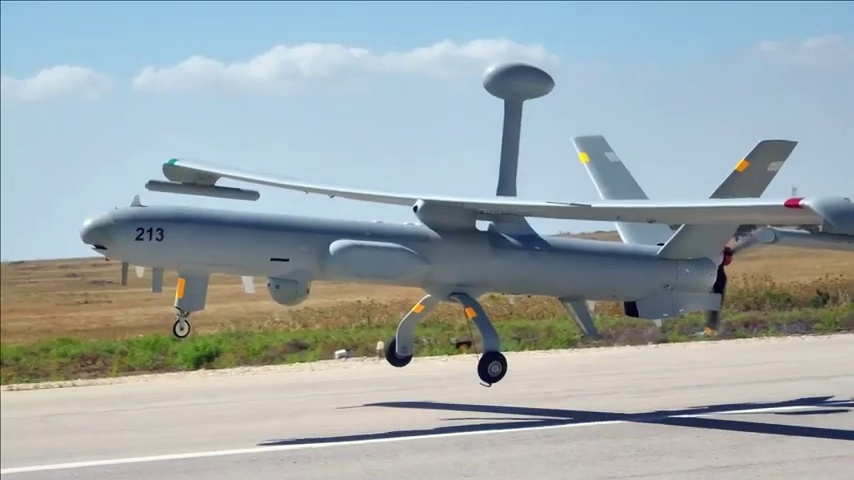military drone: (79, 61, 854, 384)
